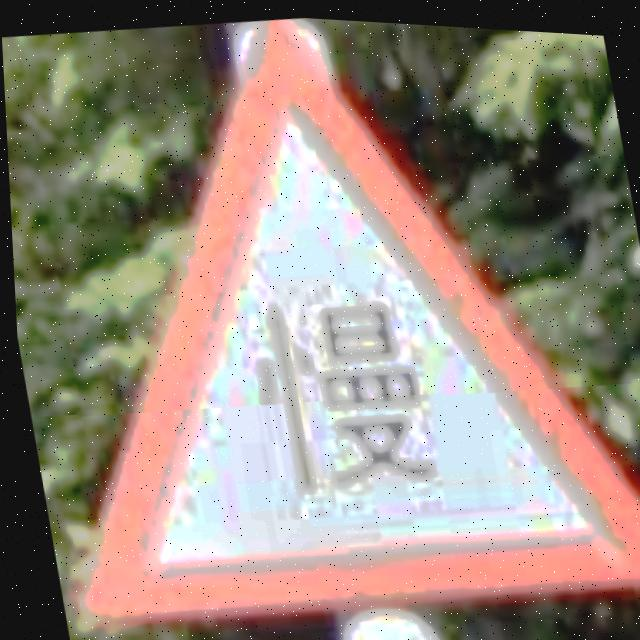slow: (70, 16, 640, 618)
